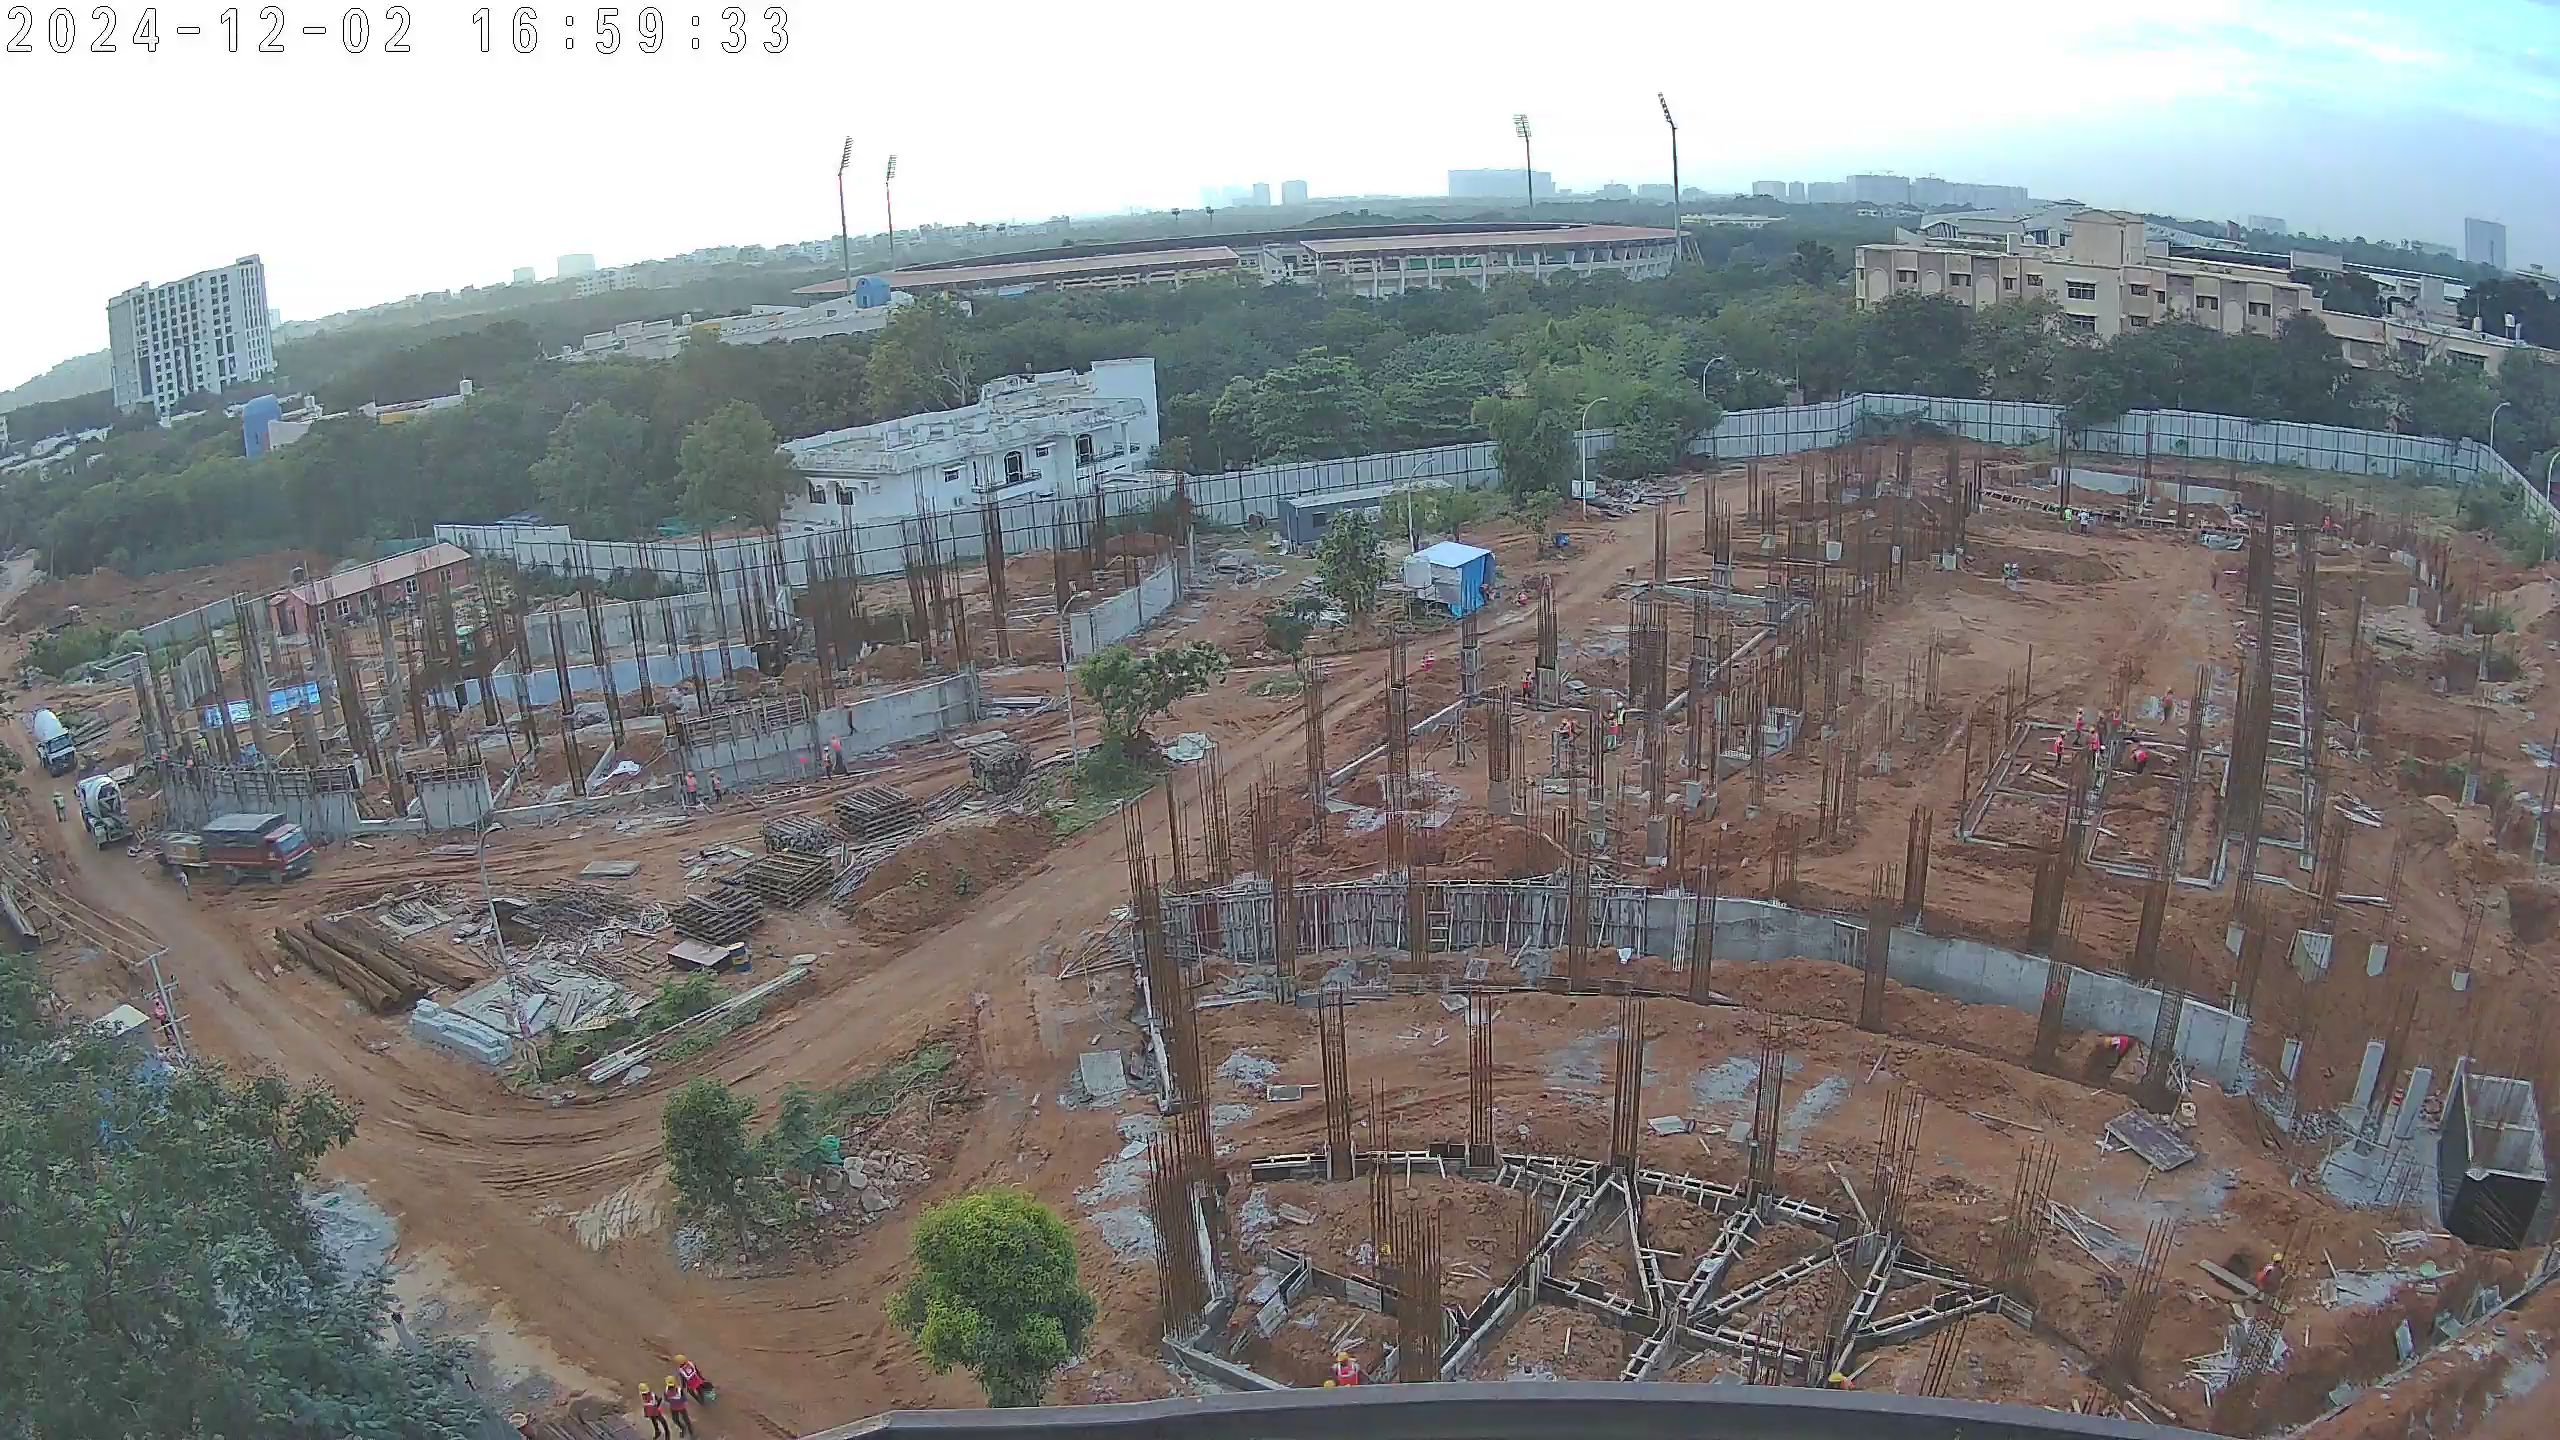truck: (193, 812, 314, 885), (70, 777, 135, 849), (25, 708, 77, 781)
worker: (669, 1352, 723, 1407), (655, 1372, 695, 1439), (2249, 1239, 2290, 1300), (635, 1380, 671, 1440), (1318, 1347, 1362, 1391), (151, 996, 178, 1044), (1822, 1364, 1860, 1397), (1516, 661, 1541, 711), (705, 763, 729, 809), (1609, 694, 1631, 744), (46, 787, 72, 829), (2068, 700, 2089, 749), (1600, 709, 1622, 755), (680, 766, 701, 813), (2084, 725, 2105, 771), (2159, 681, 2178, 729), (1557, 711, 1576, 758), (2126, 744, 2150, 781), (2050, 727, 2070, 771), (2107, 696, 2124, 744), (818, 742, 838, 782), (2076, 502, 2092, 539), (1507, 589, 1534, 608), (2062, 501, 2074, 535)
